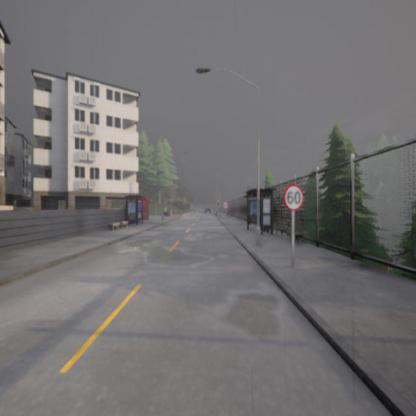traffic_sign_60: (283, 184, 304, 210)
